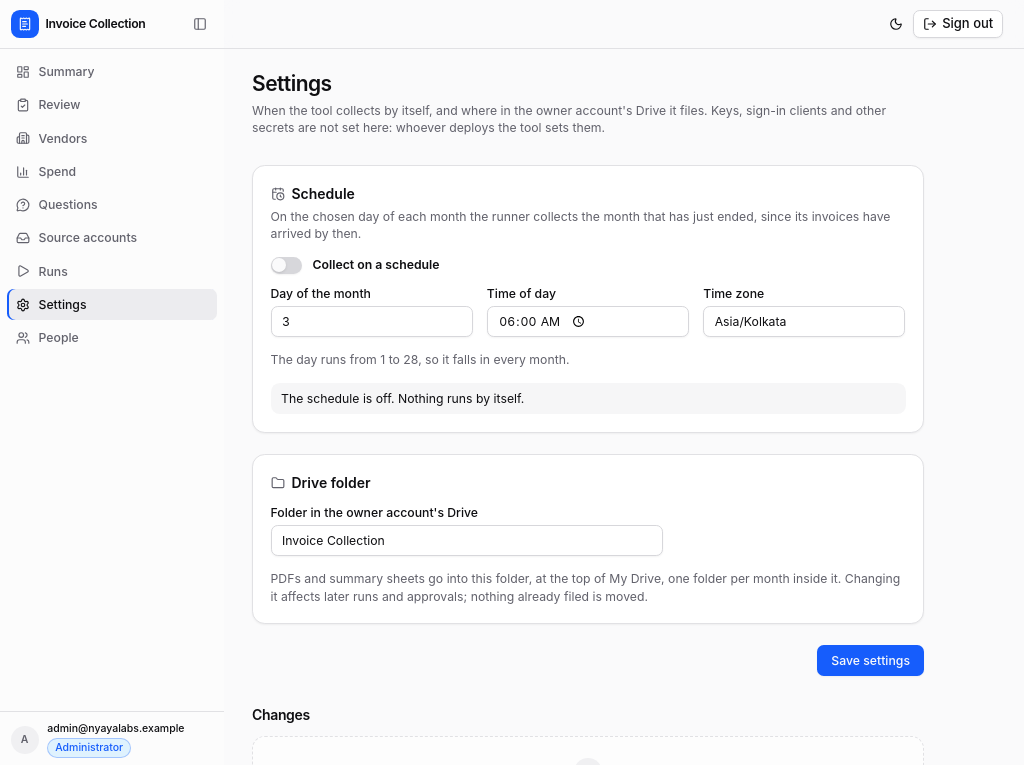
Scenario: a change that cannot be kept says why
The width and height of the screenshot is (1024, 765).
Replace the text in the field labelled "Folder in the owner account's Drive" with "Finance/2026": (466, 540) [270,524,662,556]
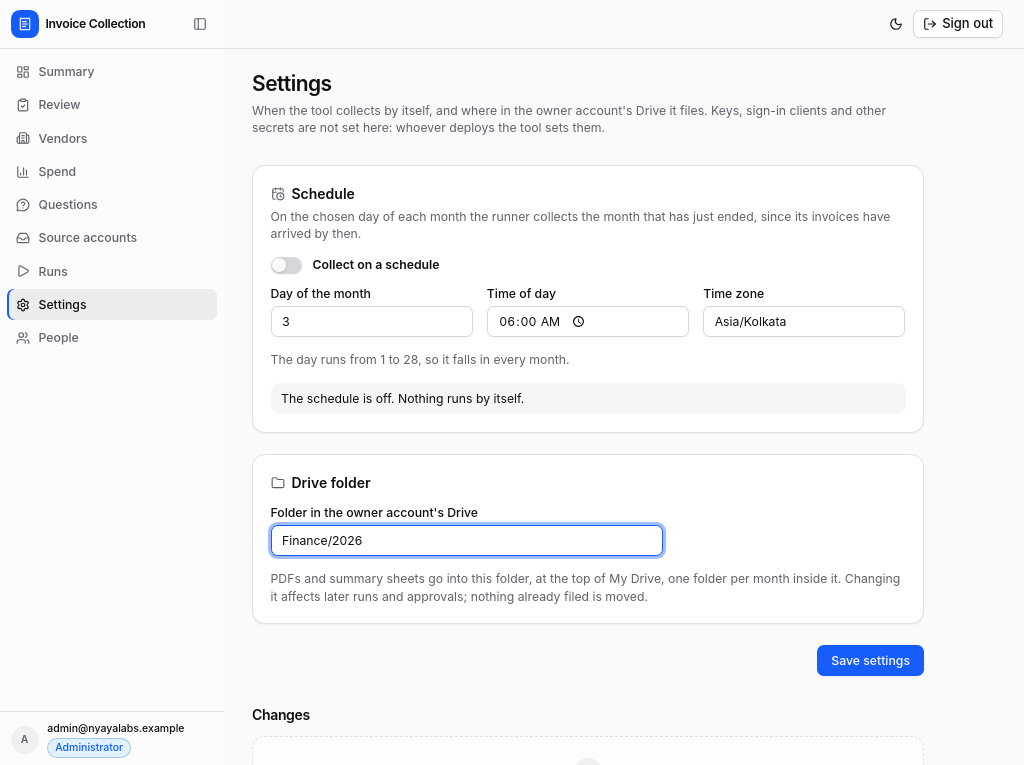
Click the button "Save settings": click(871, 660) [817,644,924,676]
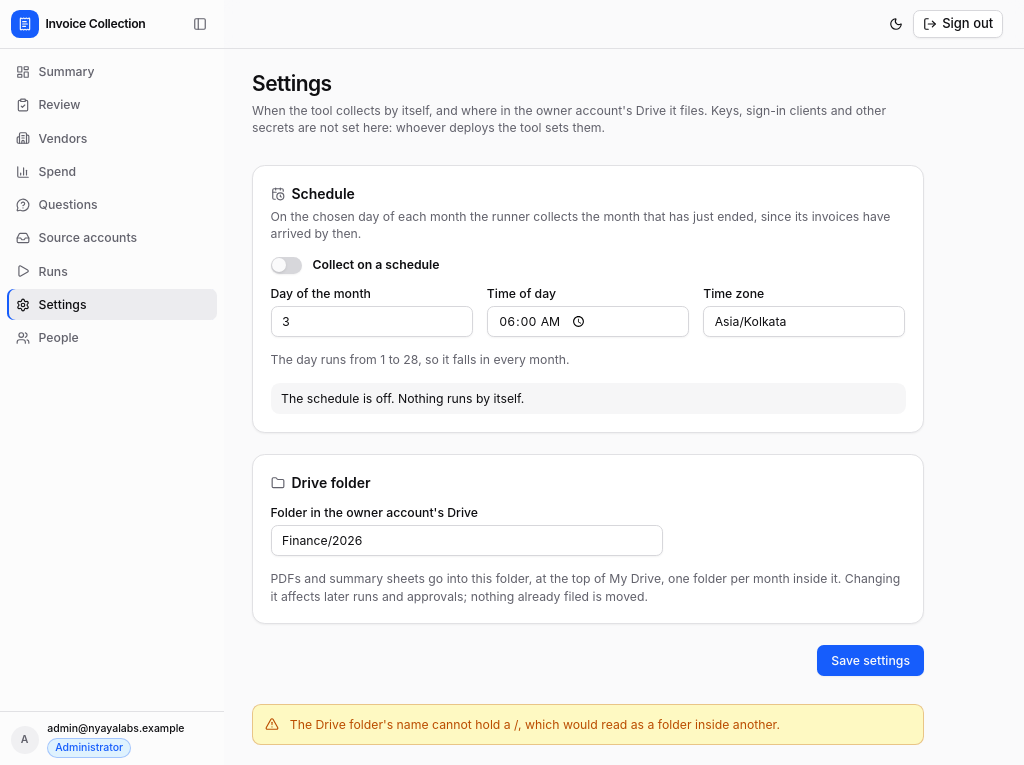
Expected: the message shows "cannot hold a /", [290,716,780,732]
